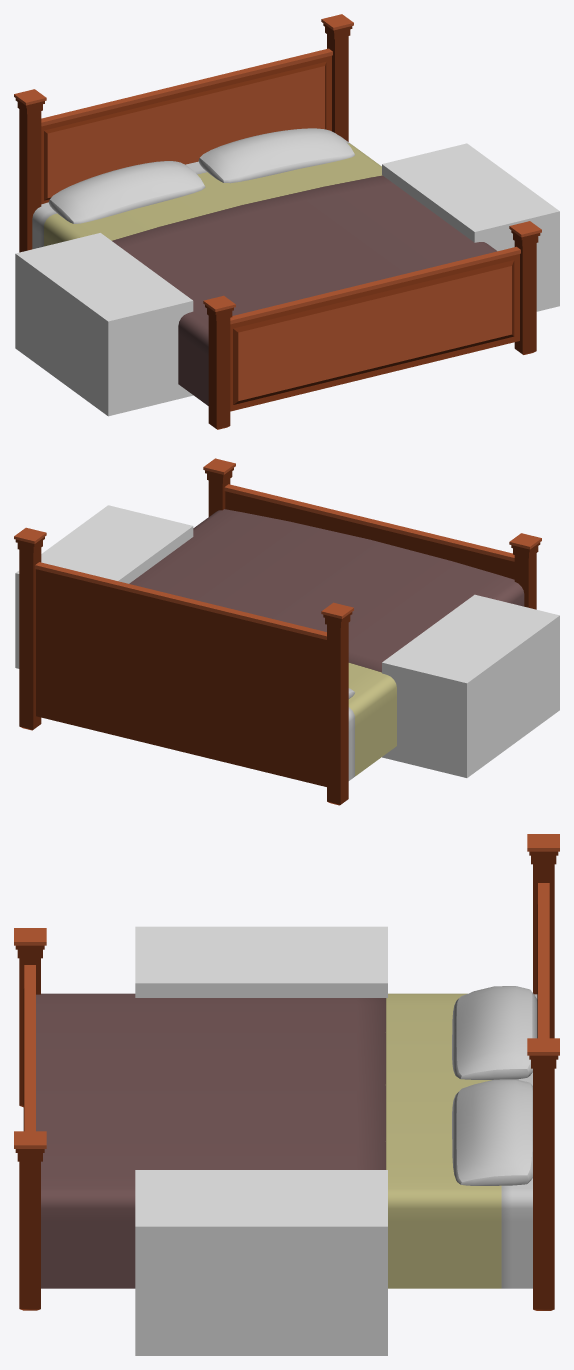
The model's file is TPBed.fbx.
The picture shows the model from 3 angles, top to bottom: view 1: azimuth 30°, elevation 25°; view 2: azimuth 150°, elevation 25°; view 3: azimuth 270°, elevation 25°; orthographic projection. The views are drawn at different scales.
Visible parts, largest first — view 1: TPBed, Bed02, Bed01, BedINL, BedINR; view 2: Bed01, TPBed, BedINL, Bed02, BedINR; view 3: TPBed, BedINR, BedINL, Bed01, Bed02.
Boxes of the visible parts, x1=… form: TPBed: x1=32, y1=128, x2=496, y2=405; Bed02: x1=203, y1=221, x2=541, y2=429; Bed01: x1=14, y1=14, x2=353, y2=252; BedINL: x1=15, y1=233, x2=193, y2=416; BedINR: x1=382, y1=143, x2=559, y2=311; Bed01: x1=14, y1=527, x2=353, y2=805; TPBed: x1=129, y1=509, x2=524, y2=780; BedINL: x1=382, y1=594, x2=559, y2=777; Bed02: x1=203, y1=458, x2=541, y2=609; BedINR: x1=15, y1=505, x2=193, y2=668; TPBed: x1=36, y1=986, x2=537, y2=1288; BedINR: x1=135, y1=1170, x2=387, y2=1355; BedINL: x1=135, y1=926, x2=387, y2=997; Bed01: x1=527, y1=834, x2=559, y2=1310; Bed02: x1=14, y1=928, x2=46, y2=1310.
Size of the model in its own units: 262 by 202 by 107.
Materials: 1 (1 with a texture image).
